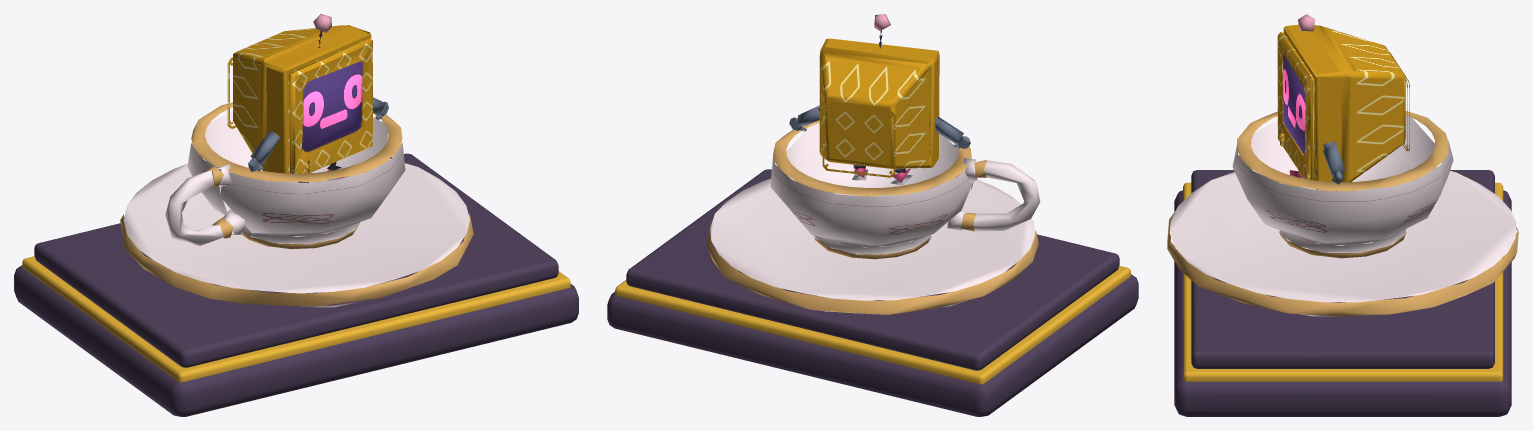
Rendered from prime.paint.host-gold.lod1.glb.
3 views of the same model, side by side, from view 1: azimuth 30°, elevation 25°; view 2: azimuth 150°, elevation 25°; view 3: azimuth 270°, elevation 25° (orthographic). The views are drawn at different scales.
Visible parts, largest first — view 1: emi_teacup_mesh, stand_display_top, stand_display_base, stand_brass_band; view 2: emi_teacup_mesh, stand_display_top, stand_display_base, stand_brass_band; view 3: emi_teacup_mesh, stand_display_top, stand_display_base, stand_brass_band.
Boxes of the visible parts, bbox=[...] form: emi_teacup_mesh: bbox=[120, 14, 473, 307]; stand_display_top: bbox=[34, 153, 558, 367]; stand_display_base: bbox=[14, 265, 578, 416]; stand_brass_band: bbox=[22, 256, 570, 382]; emi_teacup_mesh: bbox=[706, 14, 1040, 314]; stand_display_top: bbox=[626, 169, 1119, 370]; stand_display_base: bbox=[607, 274, 1138, 416]; stand_brass_band: bbox=[615, 266, 1130, 384]; emi_teacup_mesh: bbox=[1167, 14, 1518, 316]; stand_display_top: bbox=[1191, 170, 1494, 368]; stand_display_base: bbox=[1174, 190, 1511, 416]; stand_brass_band: bbox=[1183, 182, 1503, 381].
Size of the model in its own units: 0.64 by 0.4654 by 0.4763.
4 materials, 3 textured.
